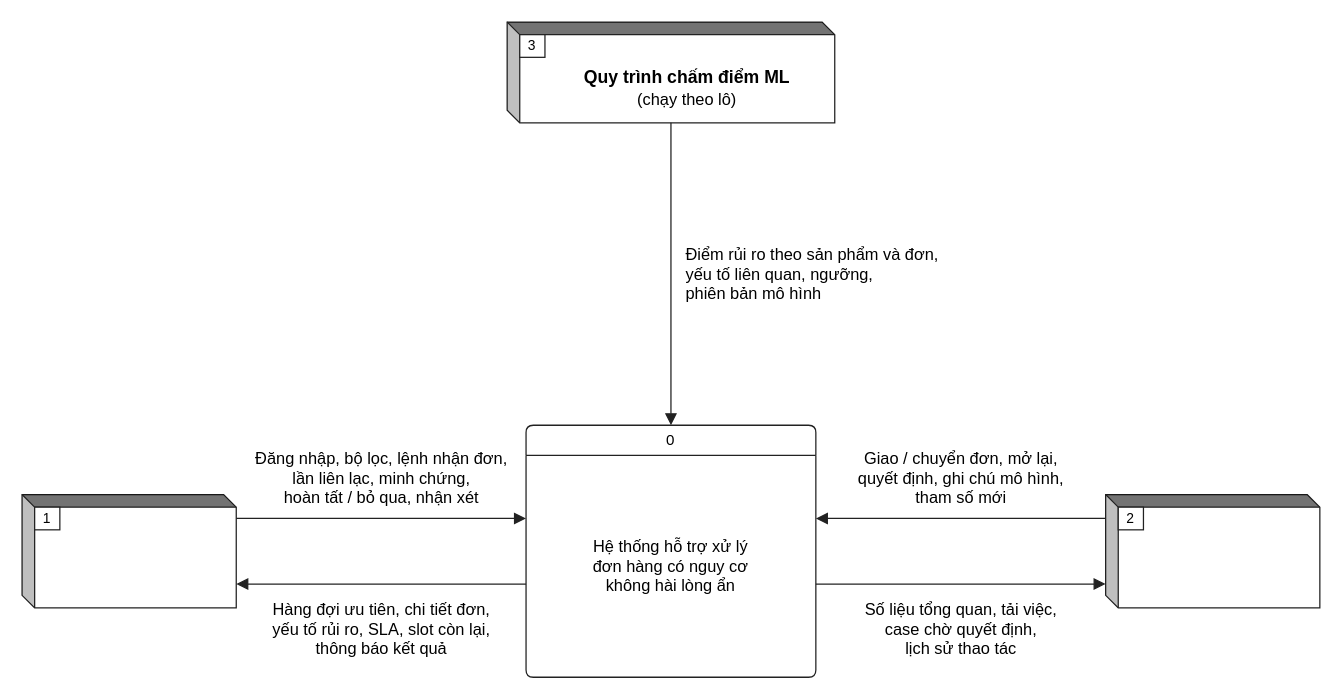
Some shapes in this 1342 by 699 pixel diagram are drawn without their labels. The shapes that lost their labels are listed below. From the top down, each one's box as (x1, y1, x2, y2) in pixels, then its label:
(21, 493, 236, 608): Nhân viên CSKH
(1104, 493, 1320, 608): Quản lý
